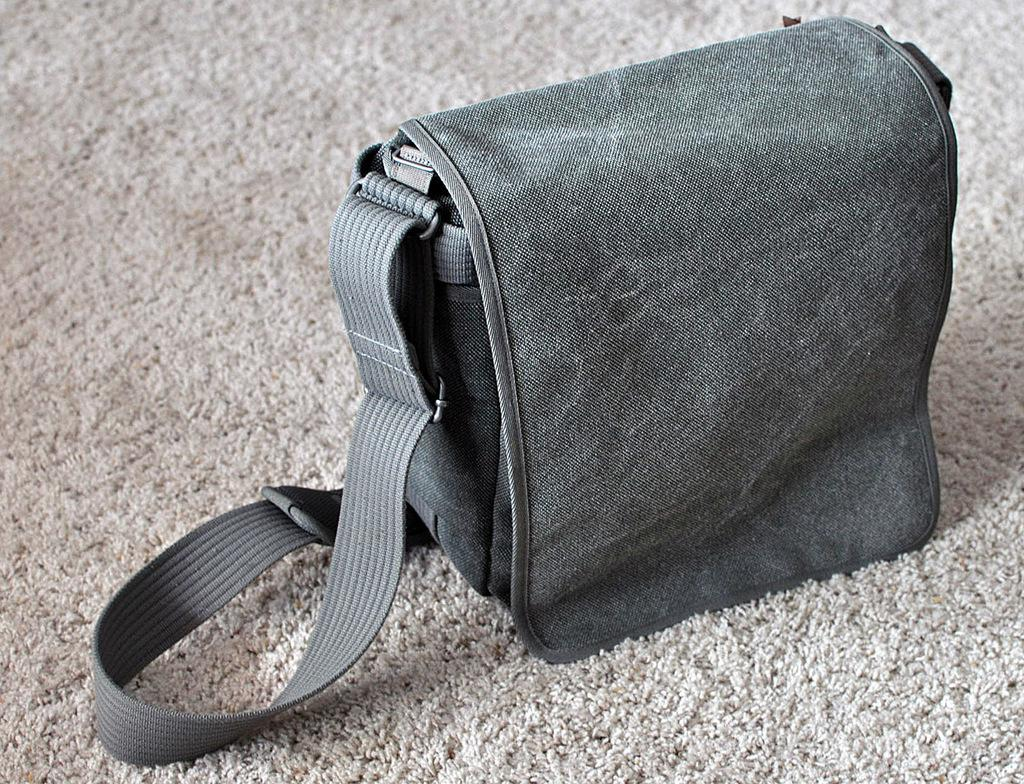Luggage-and-bags: (154, 30, 961, 689)
